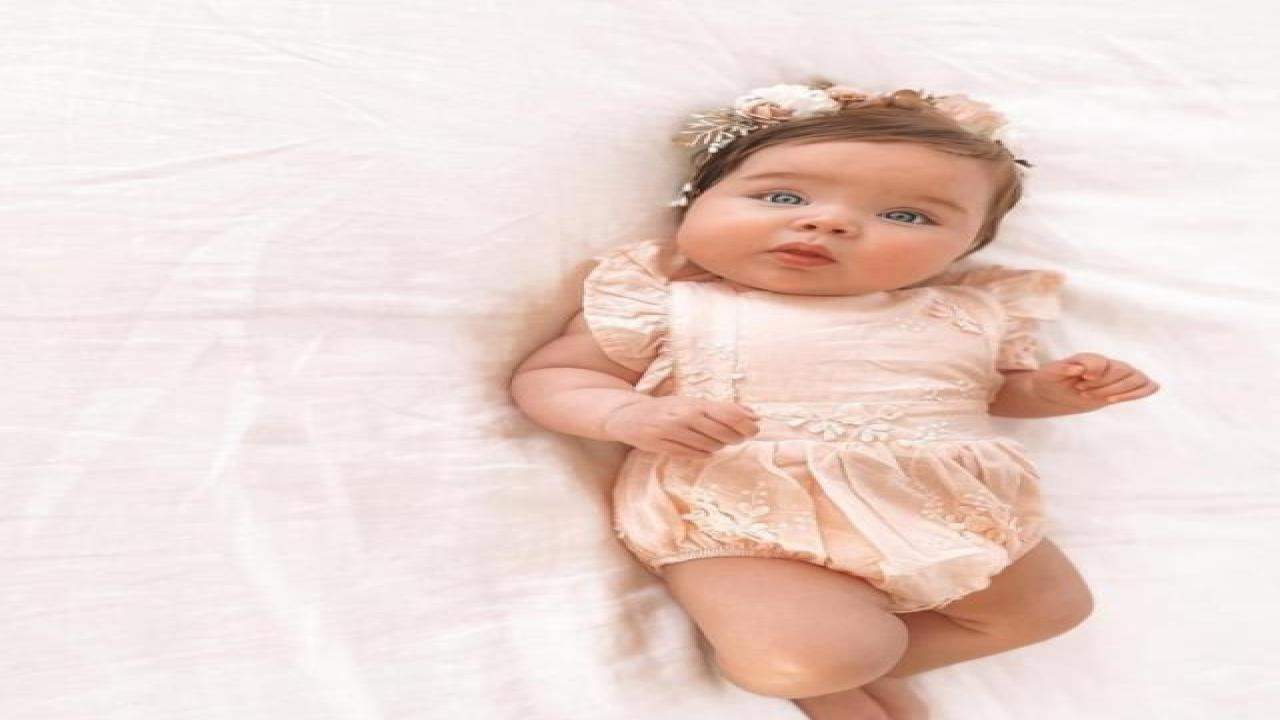hand: (603, 389, 764, 462), (1031, 352, 1160, 414)
